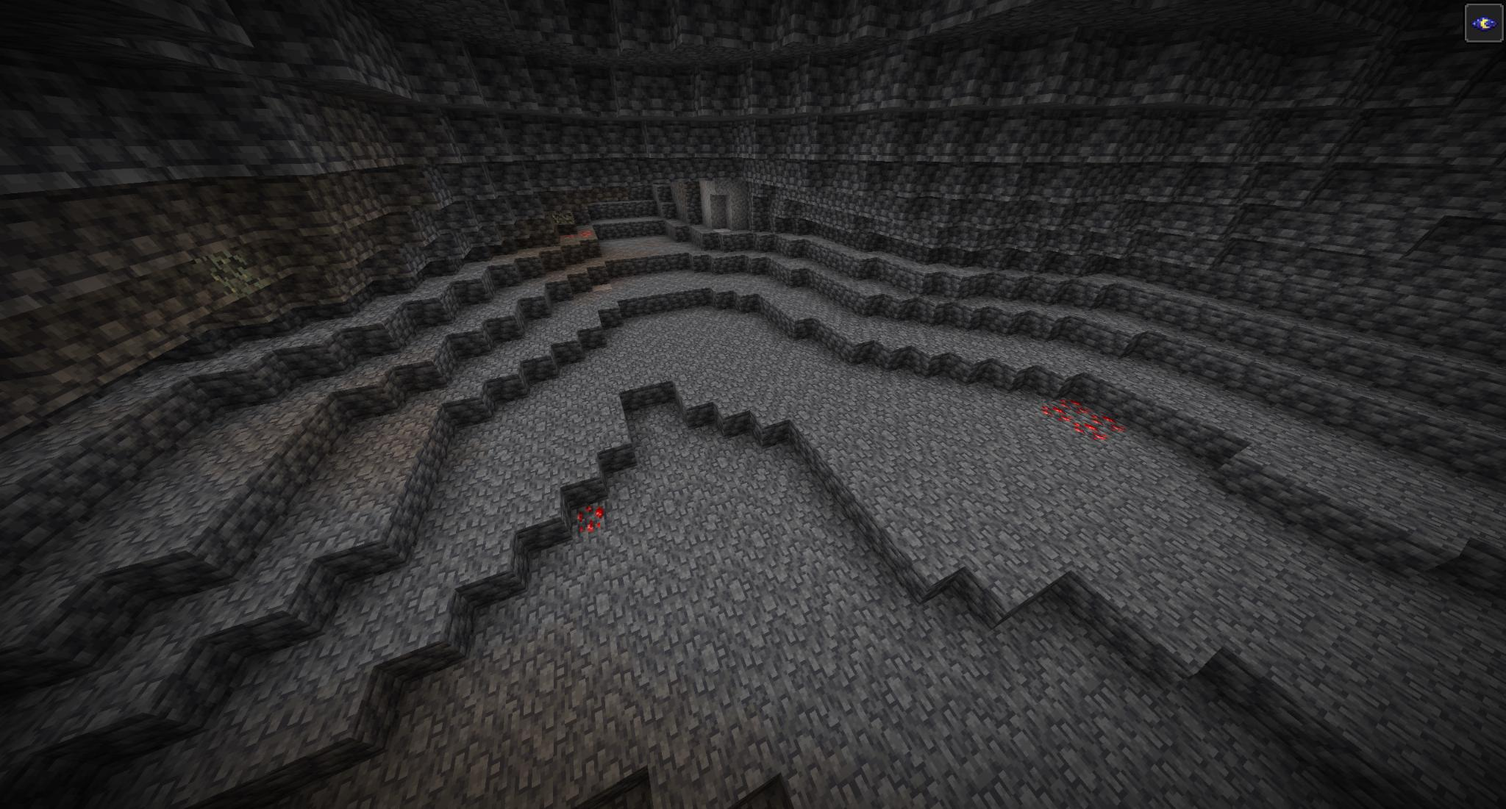redstone ore: (1045, 394, 1111, 447), (571, 499, 610, 535)
